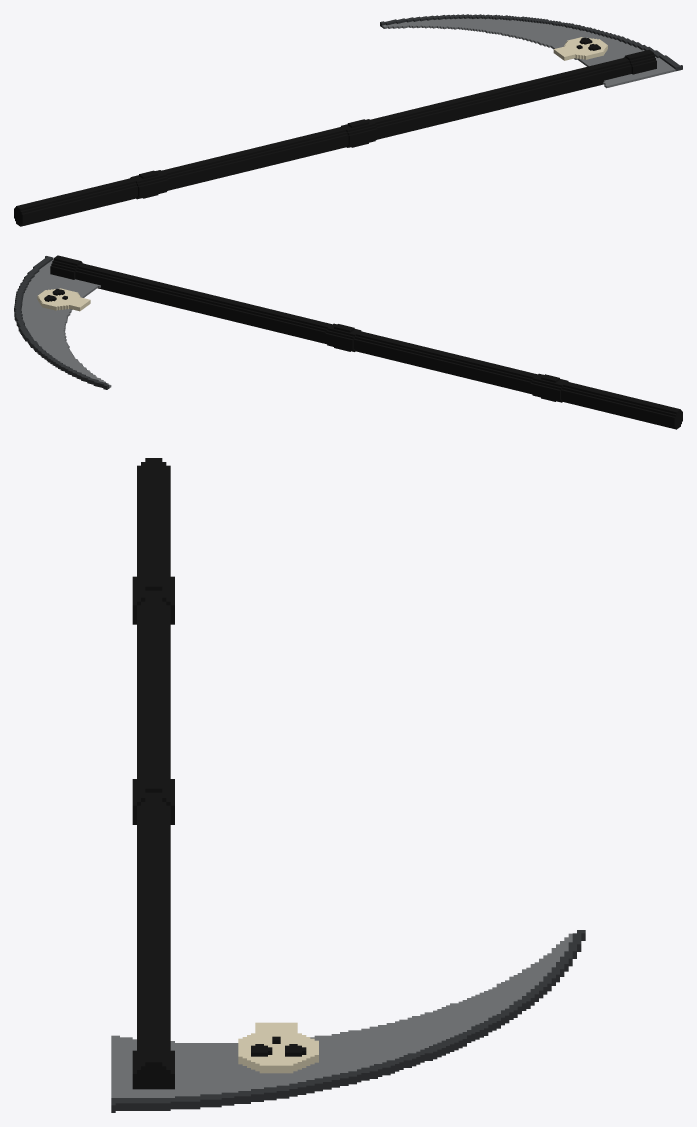
Rendered from scythe_toy.glb.
3 views of the same model, one above another, from view 1: azimuth 30°, elevation 25°; view 2: azimuth 150°, elevation 25°; view 3: azimuth 270°, elevation 25° (orthographic). The views are drawn at different scales.
Parts seen in each view (by area): view 1: scythe_toy:compound; view 2: scythe_toy:compound; view 3: scythe_toy:compound.
Boxes of the visible parts, left/top/right/bottom form: scythe_toy:compound: left=14, top=14, right=682, bottom=226; scythe_toy:compound: left=14, top=255, right=682, bottom=429; scythe_toy:compound: left=111, top=458, right=585, bottom=1112.
Bounding box in the file's own units: 1.4 × 0.044 × 0.448.
